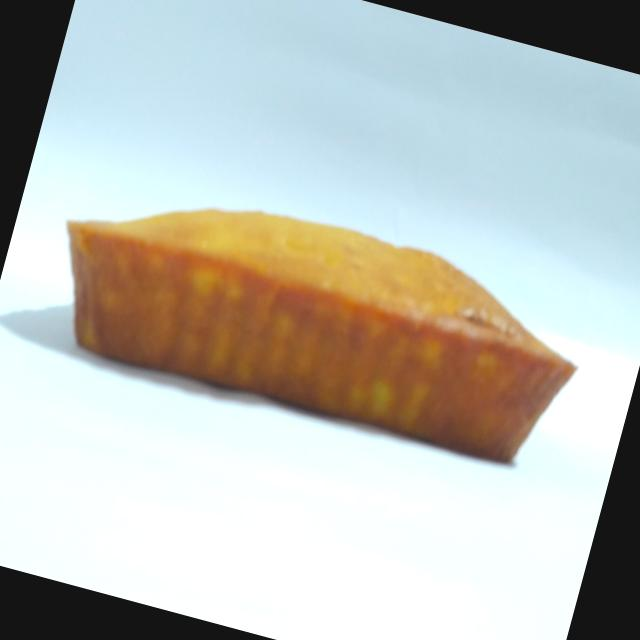Sopa: (17, 136, 610, 502)
